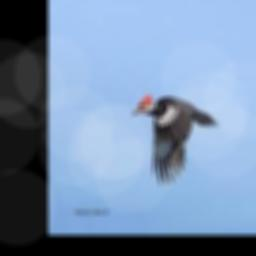Woodpecker: (132, 94, 220, 186)
